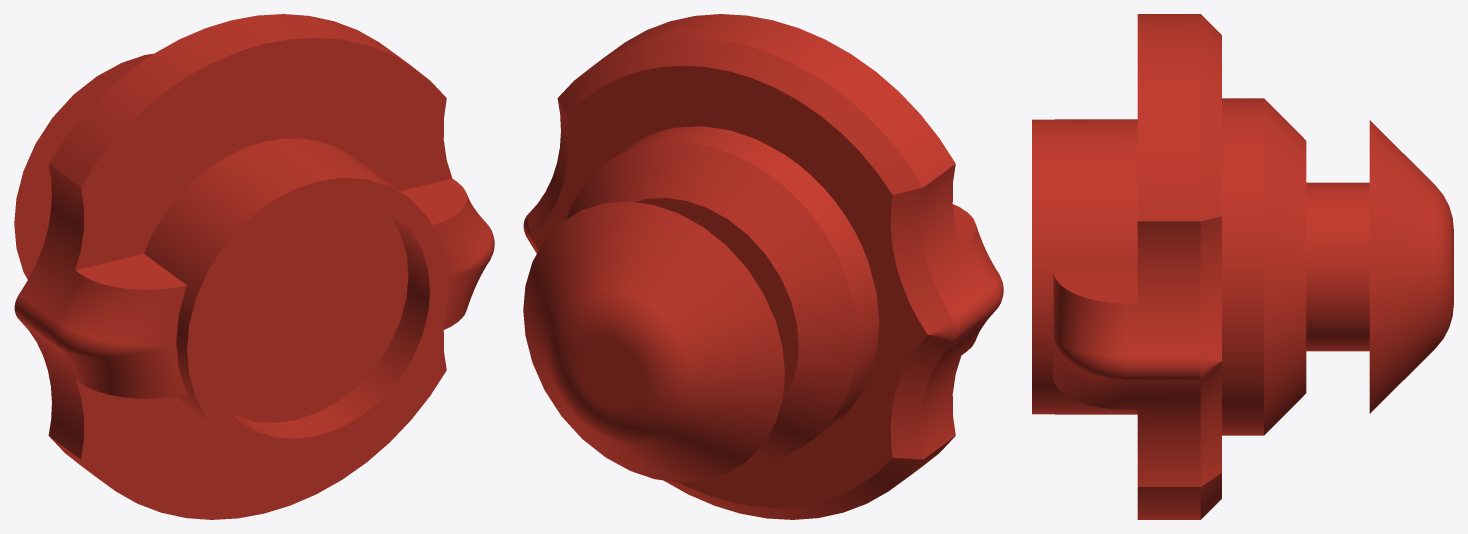
Rendered from Stamina Tip.fbx.
3 renders of one model, left to right at view 1: azimuth 30°, elevation 25°; view 2: azimuth 150°, elevation 25°; view 3: azimuth 270°, elevation 25°, orthographic. The views are drawn at different scales.
Visible parts, largest first — view 1: Stamina Tip; view 2: Stamina Tip; view 3: Stamina Tip.
Part boxes in pixels (x1,y1,x2,y2): Stamina Tip: (14,14,494,519); Stamina Tip: (523,14,1003,519); Stamina Tip: (1032,14,1453,519).
Size of the model in its own units: 23.2 by 24 by 20.
